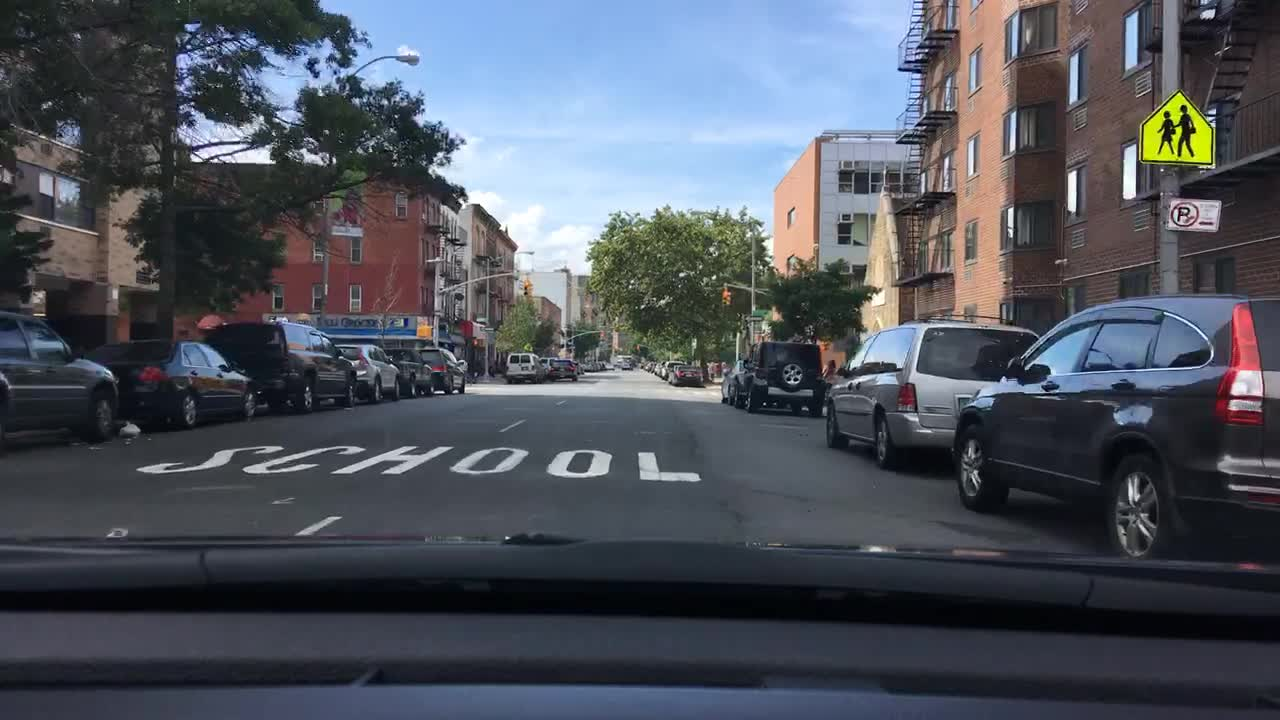car: (952, 295, 1277, 562), (823, 317, 1036, 464), (83, 338, 254, 428), (1, 311, 116, 438), (209, 321, 358, 411), (732, 340, 821, 415), (332, 342, 400, 401), (418, 344, 466, 394), (384, 345, 431, 396), (502, 350, 544, 384), (716, 358, 744, 403), (544, 357, 577, 380), (667, 365, 702, 386), (657, 358, 685, 380), (615, 354, 632, 370), (563, 359, 581, 374), (536, 354, 548, 376), (651, 359, 664, 375), (640, 362, 656, 374), (589, 359, 605, 371), (578, 357, 589, 374), (610, 359, 622, 370), (635, 359, 647, 369), (622, 354, 631, 365)
motor: (820, 383, 836, 403), (463, 370, 479, 383)
person: (485, 359, 497, 379)
rider: (821, 361, 837, 386), (463, 354, 476, 371)
traffic light: (563, 328, 573, 354), (518, 281, 531, 298), (463, 336, 476, 352), (416, 325, 431, 338), (720, 291, 731, 307), (819, 338, 831, 352), (594, 333, 602, 346)
traffic sign: (1138, 88, 1213, 165), (1160, 198, 1223, 231), (329, 225, 362, 237), (609, 328, 618, 349), (745, 313, 762, 323), (752, 308, 768, 317), (477, 327, 493, 334), (689, 337, 694, 352)
